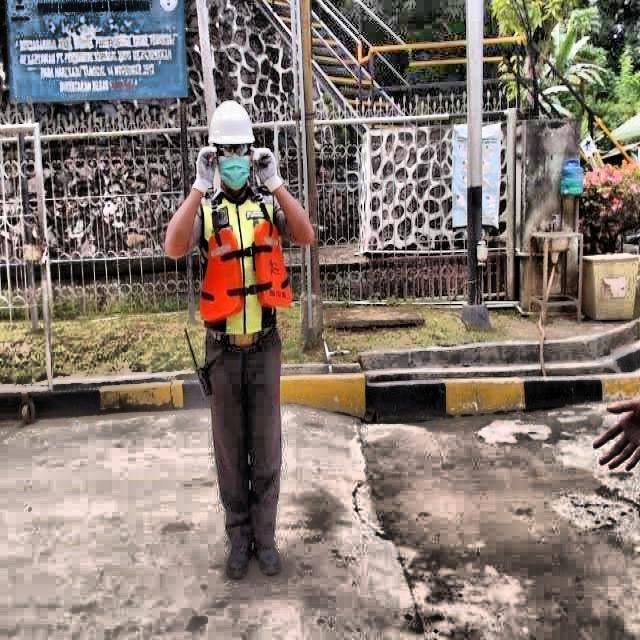safety_helmet: (208, 101, 257, 146)
safety_jacket: (196, 191, 293, 337)
